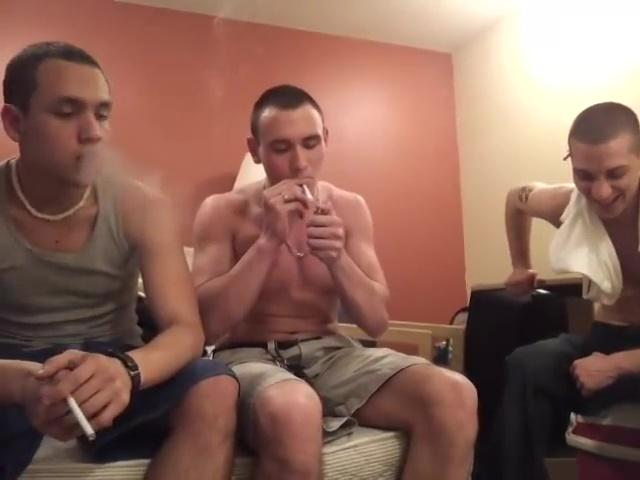cigarette: (65, 394, 101, 444), (303, 183, 316, 205)
